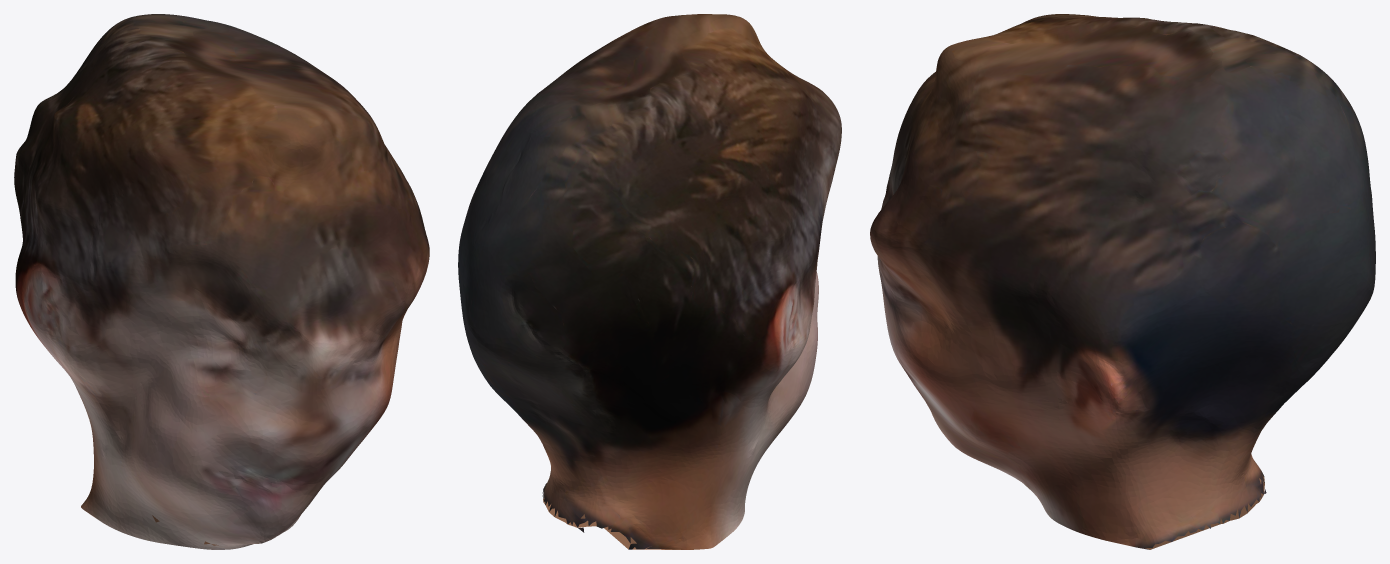
File: santi-cabeca-pescoco-20cm.glb
The picture shows the model from 3 angles, left to right: view 1: azimuth 30°, elevation 25°; view 2: azimuth 150°, elevation 25°; view 3: azimuth 270°, elevation 25°; orthographic projection. The views are drawn at different scales.
Parts seen in each view (by area): view 1: Santi · cabeça e pescoço · 20 cm; view 2: Santi · cabeça e pescoço · 20 cm; view 3: Santi · cabeça e pescoço · 20 cm.
Boxes of the visible parts, x1=… form: Santi · cabeça e pescoço · 20 cm: x1=14, y1=14, x2=429, y2=549; Santi · cabeça e pescoço · 20 cm: x1=458, y1=14, x2=841, y2=549; Santi · cabeça e pescoço · 20 cm: x1=870, y1=14, x2=1375, y2=549.
Bounding box in the file's own units: 0.1594 × 0.2 × 0.1974.
2 materials, 1 textured.
